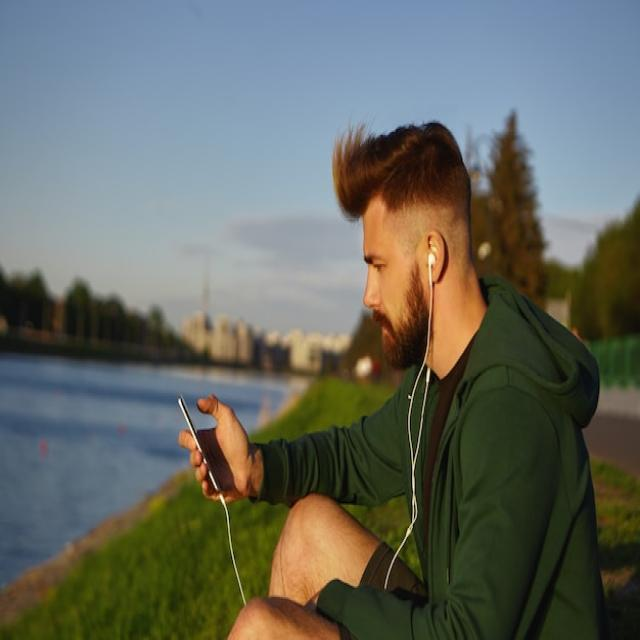Earphone: (218, 250, 437, 640)
